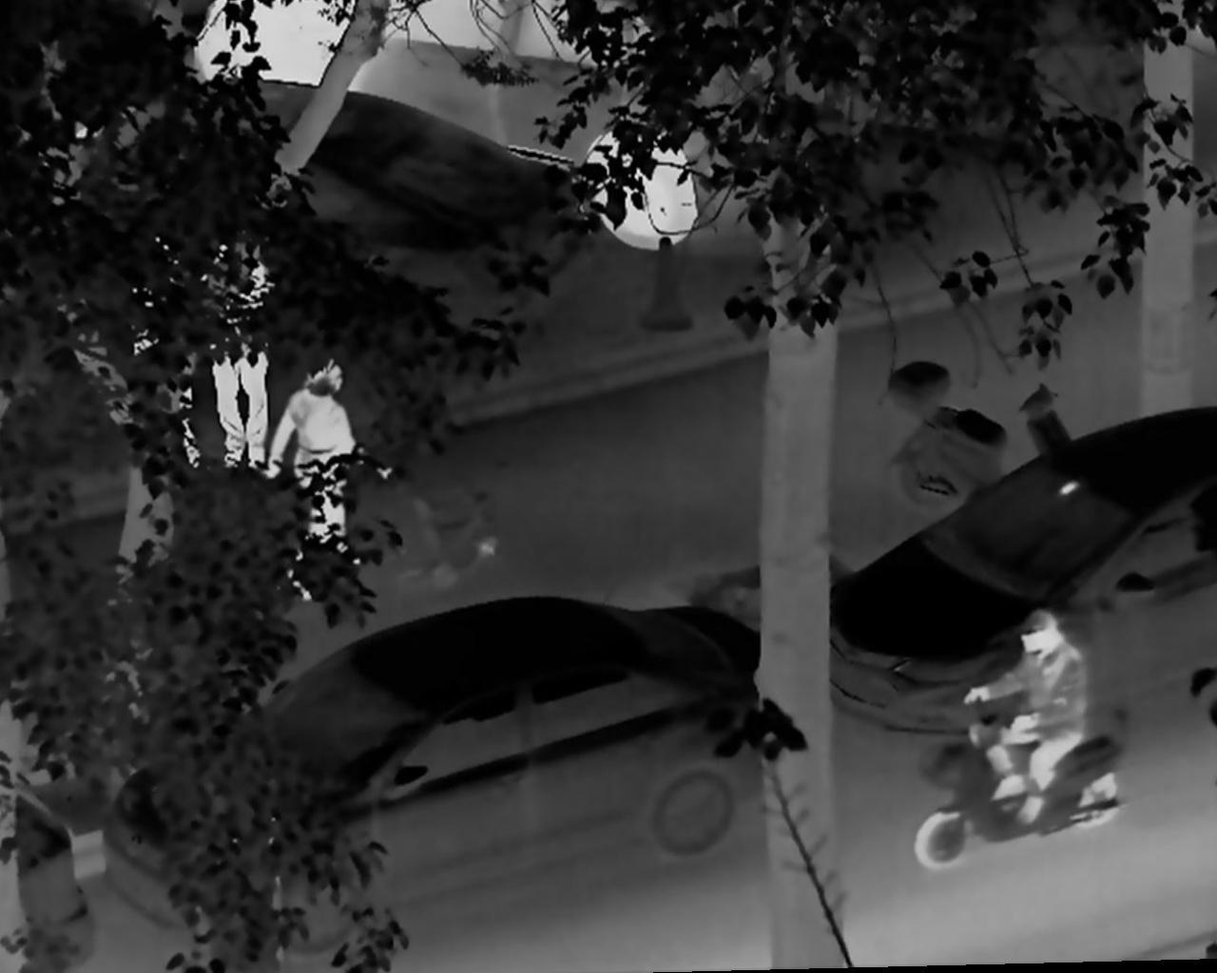person: (258, 345, 397, 597), (954, 611, 1087, 833), (189, 208, 277, 474)
